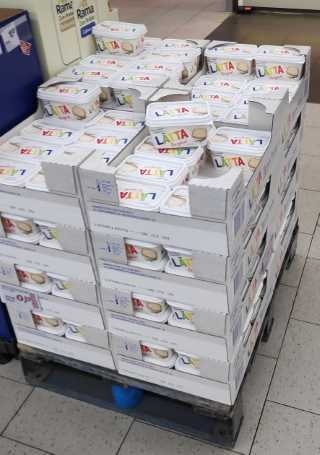laetta: (145, 100, 214, 147), (133, 134, 201, 176), (36, 77, 102, 120), (207, 125, 272, 168), (113, 153, 185, 184), (91, 19, 147, 56), (1, 133, 61, 163), (204, 40, 255, 74), (255, 44, 306, 77), (112, 181, 168, 209), (74, 126, 131, 149), (22, 122, 78, 145), (124, 238, 165, 267), (195, 71, 246, 91), (110, 68, 161, 88), (100, 110, 145, 130), (132, 294, 166, 319), (127, 59, 175, 75), (149, 48, 191, 64)
